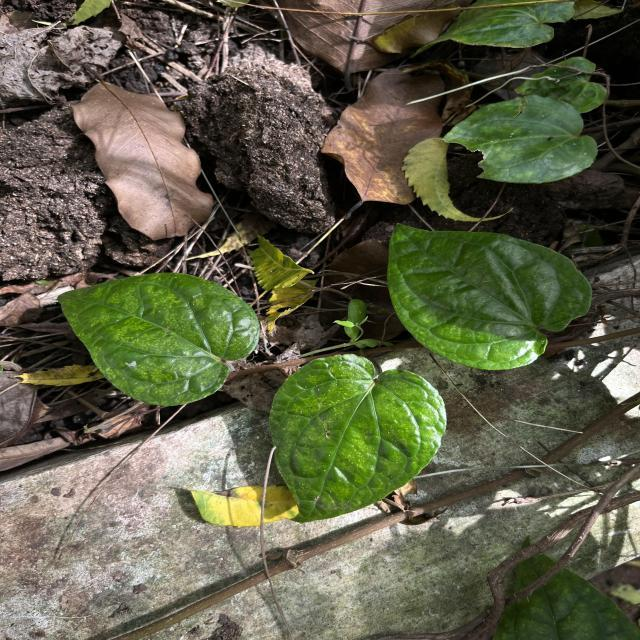Piper betle: (384, 220, 594, 374), (267, 351, 449, 525), (55, 270, 264, 408)
